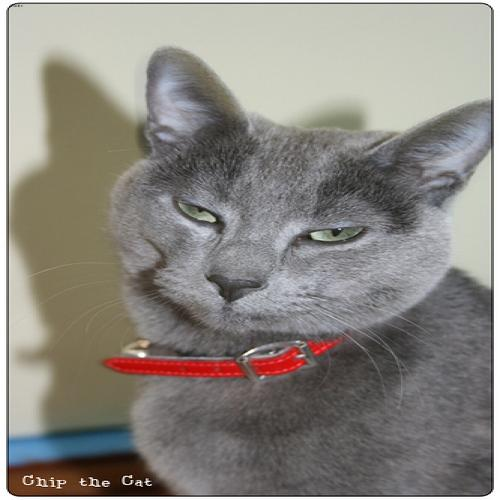rblue: (89, 33, 500, 359)
